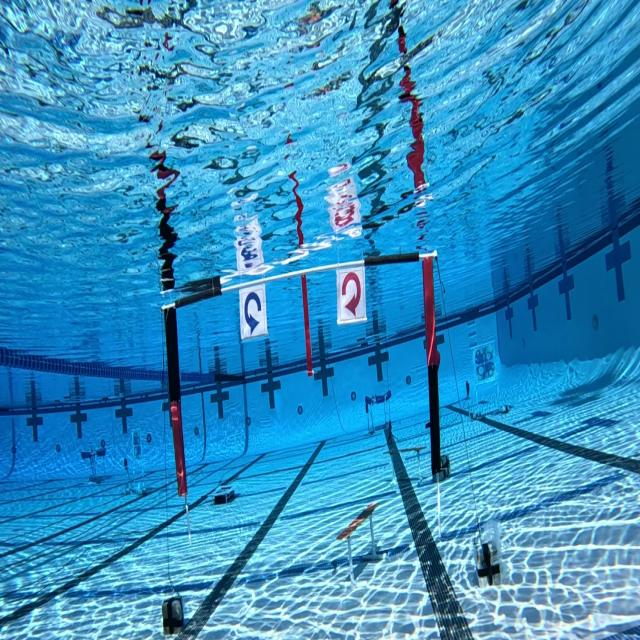blue_side: (235, 282, 267, 344)
red_side: (337, 262, 370, 329)
